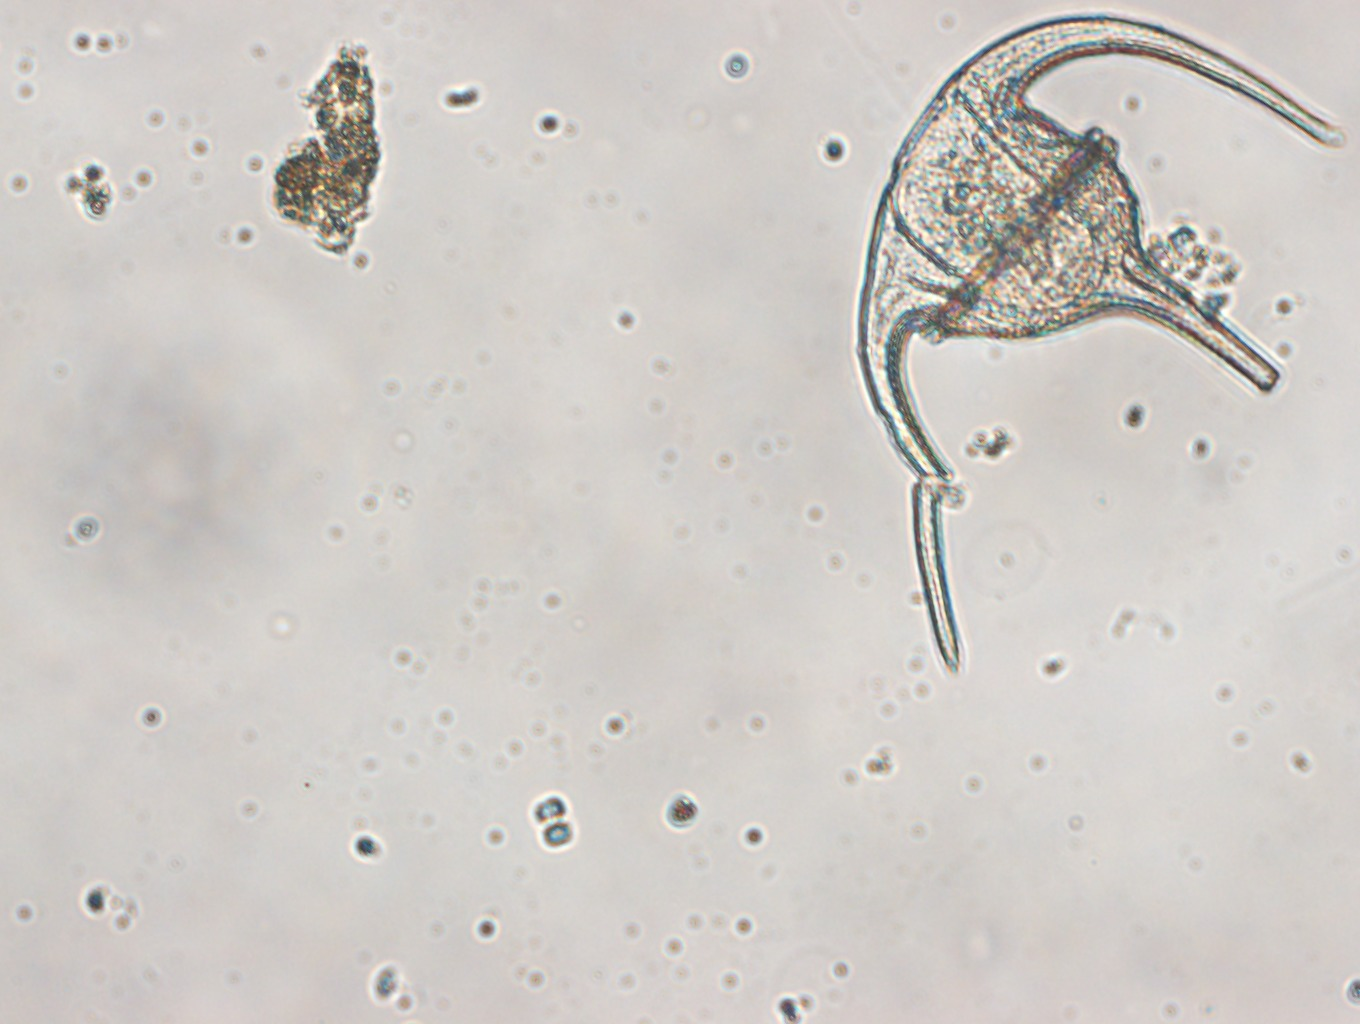ceratium tripos: (851, 10, 1344, 673)
